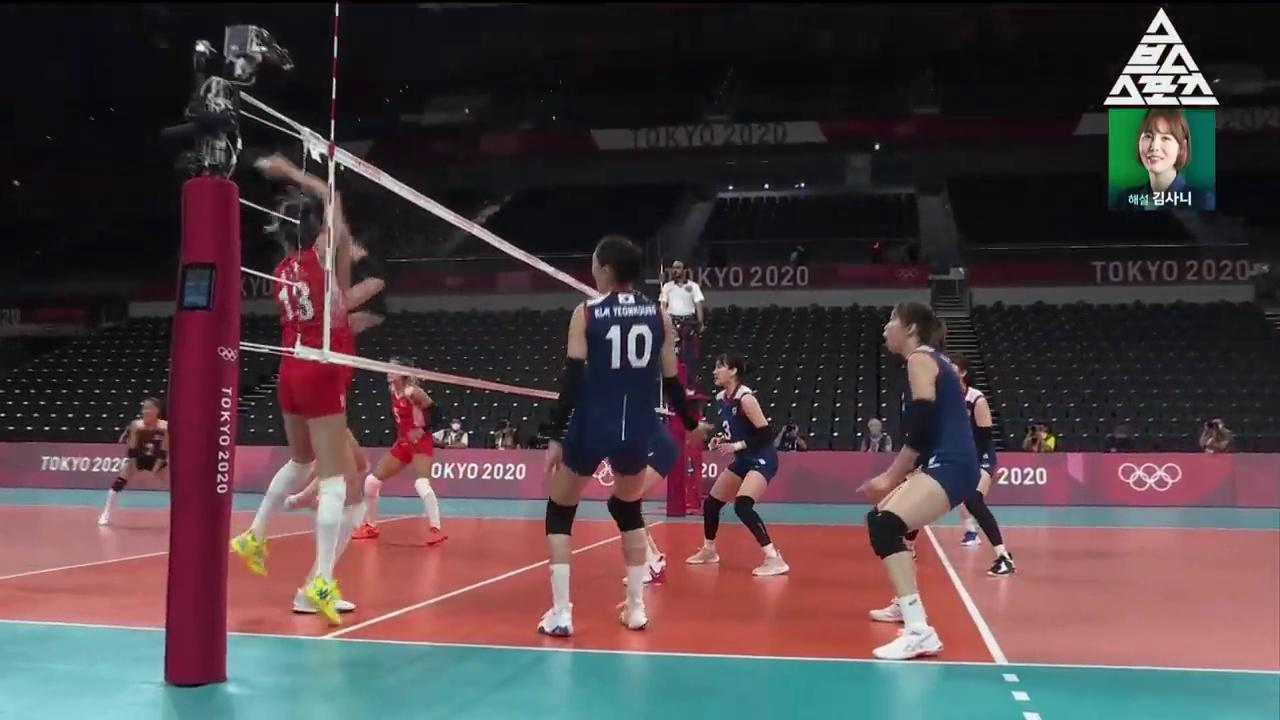player: (538, 237, 713, 639), (231, 154, 343, 626), (856, 303, 978, 660), (686, 352, 790, 576), (349, 359, 446, 546), (99, 397, 200, 524)
referee: (657, 260, 704, 395)
